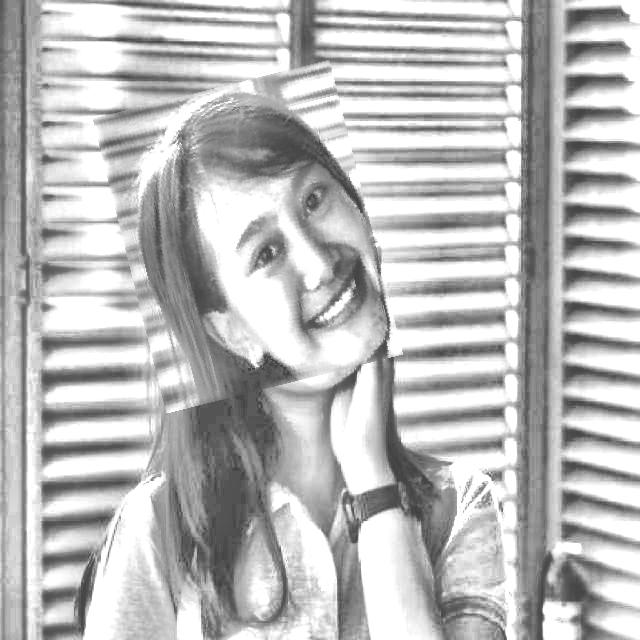happy: (109, 73, 387, 401)
